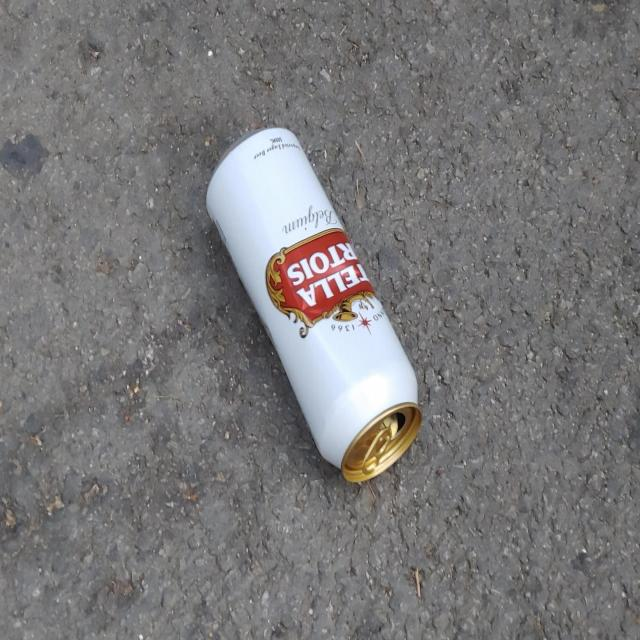can: (206, 127, 422, 483)
